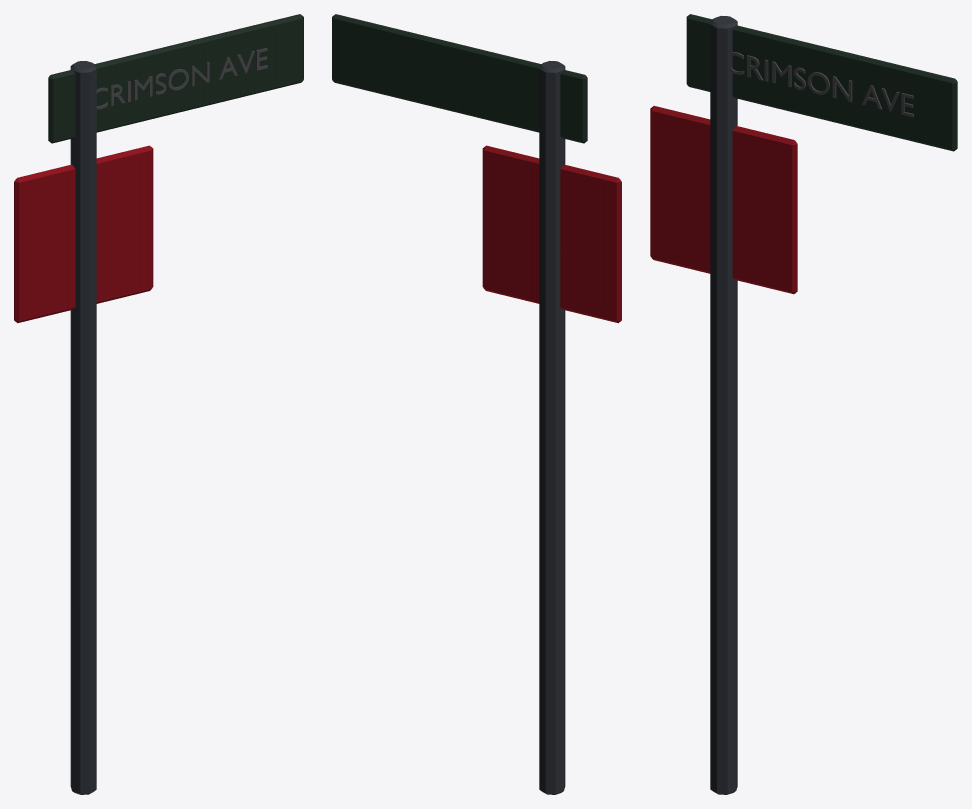
File: kit_street_sign.glb
3 renders of one model, left to right at view 1: azimuth 30°, elevation 25°; view 2: azimuth 150°, elevation 25°; view 3: azimuth 330°, elevation 25°, orthographic. The views are drawn at different scales.
Parts seen in each view (by area): view 1: ss_pole, ss_stop, ss_plate, ss_text; view 2: ss_pole, ss_stop, ss_plate; view 3: ss_pole, ss_stop, ss_plate, ss_text.
Boxes of the visible parts, <box> form: ss_pole: <box>70,61,96,794</box>; ss_stop: <box>14,145,153,323</box>; ss_plate: <box>48,14,303,143</box>; ss_text: <box>96,48,267,109</box>; ss_pole: <box>539,61,565,794</box>; ss_stop: <box>482,145,621,323</box>; ss_plate: <box>332,14,587,143</box>; ss_pole: <box>710,15,737,794</box>; ss_stop: <box>650,106,797,294</box>; ss_plate: <box>686,14,957,151</box>; ss_text: <box>730,52,913,117</box>.
Bounding box in the file's own units: 1.25 × 3 × 0.1.
Materials: 4 (4 with a texture image).
